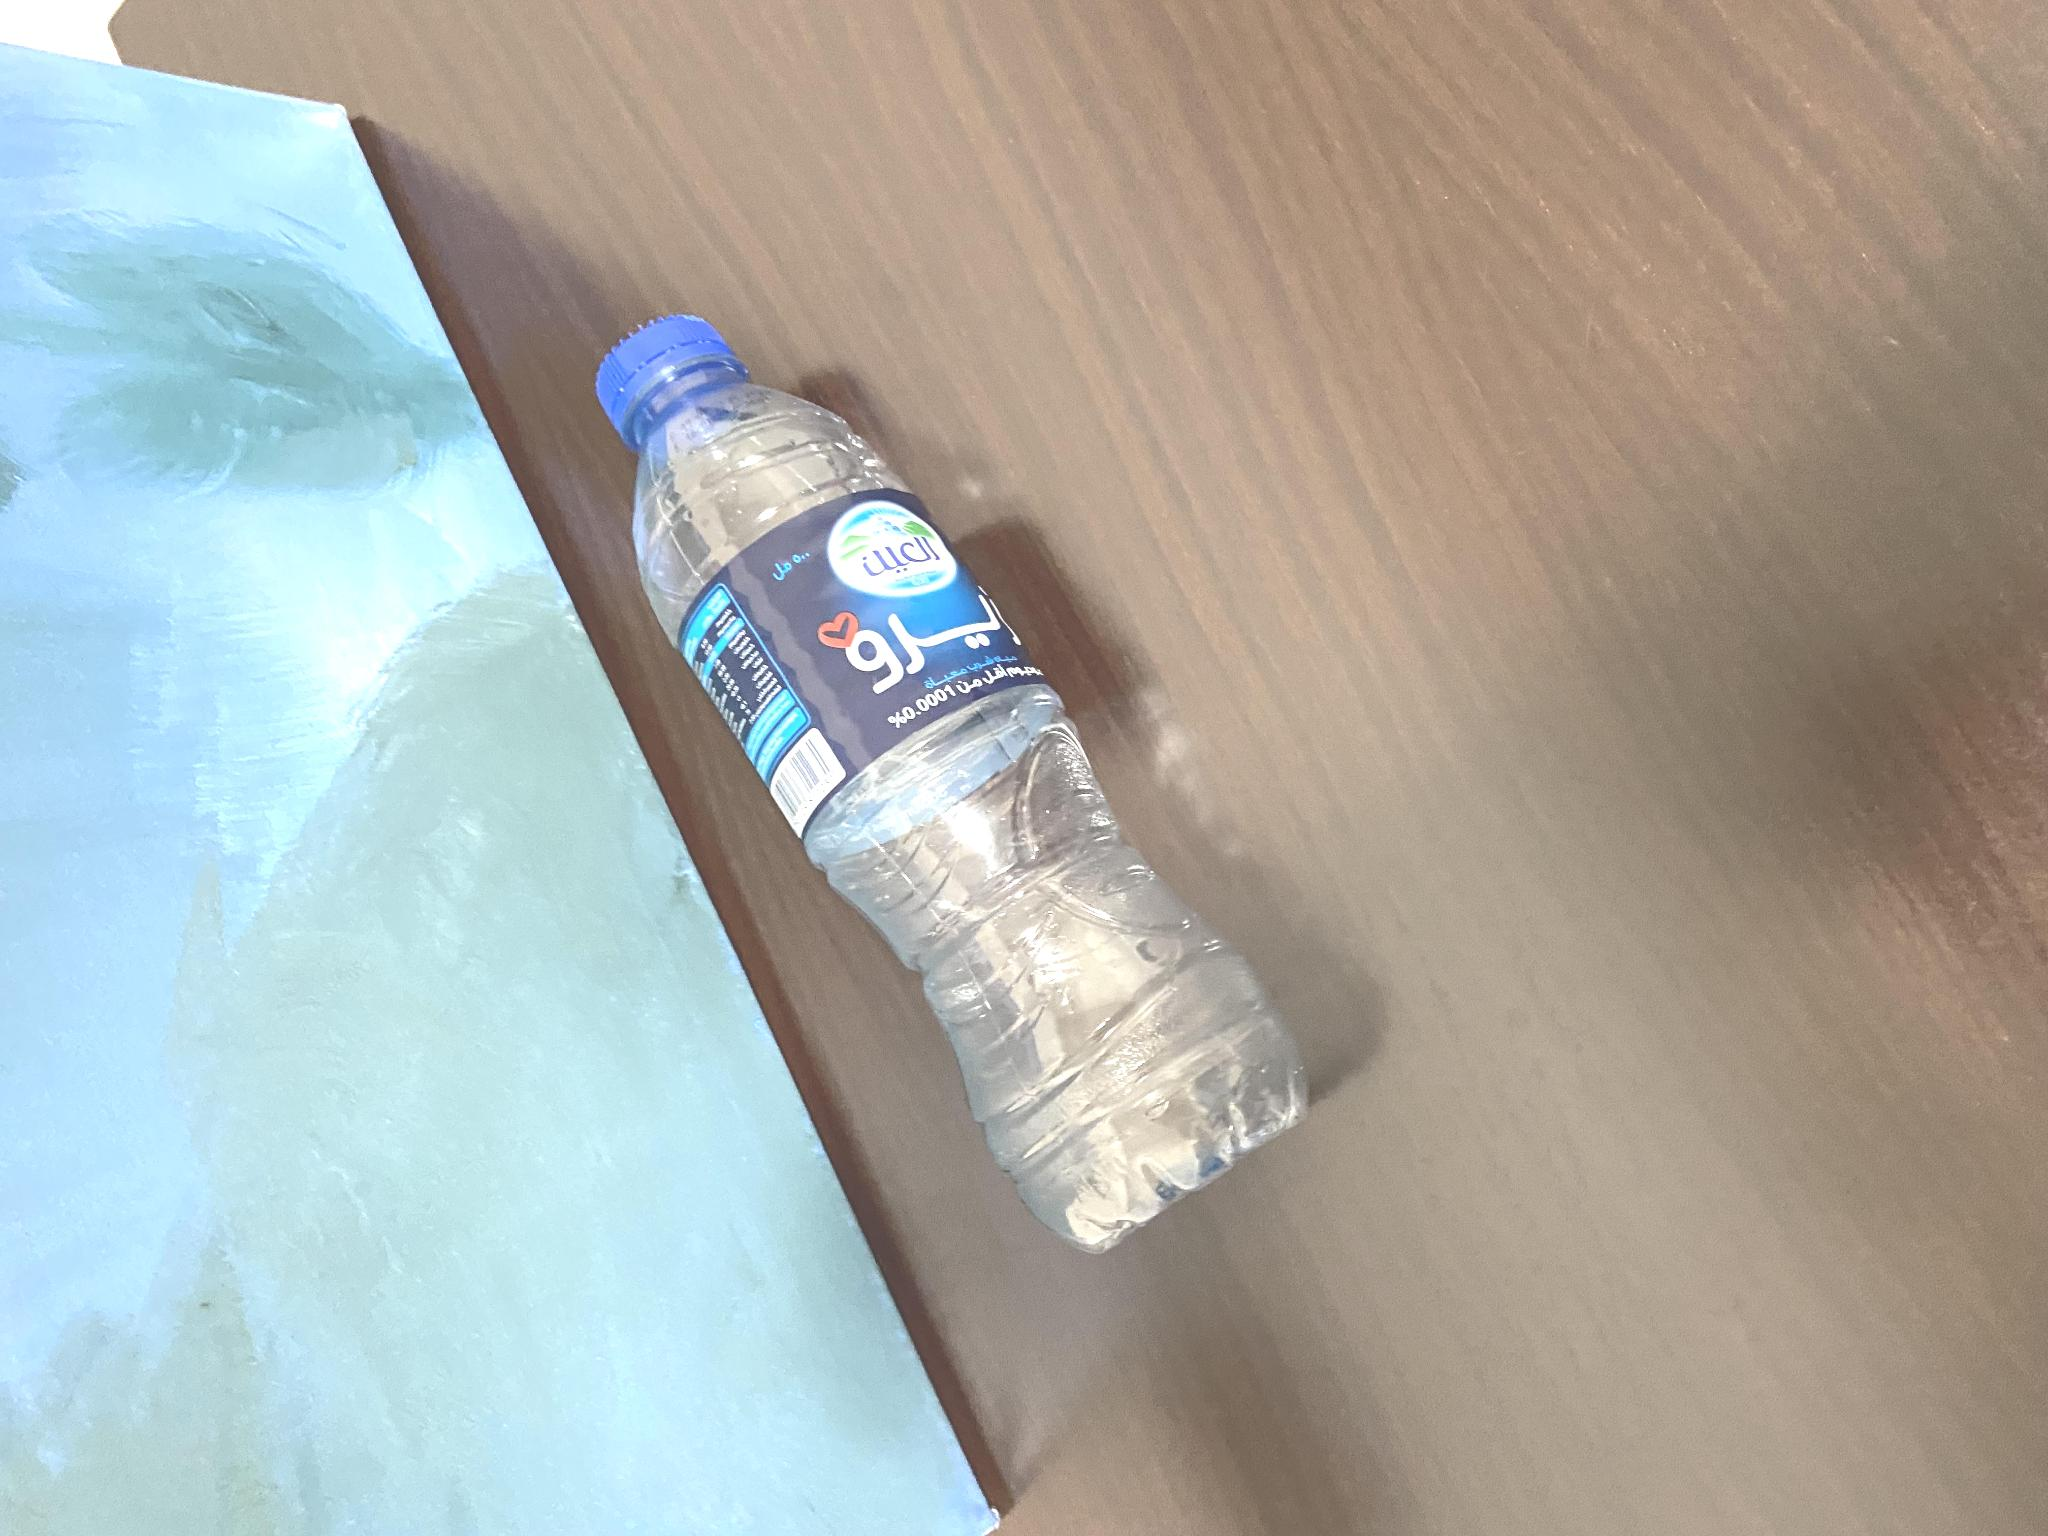bottle: (543, 295, 1332, 1263)
